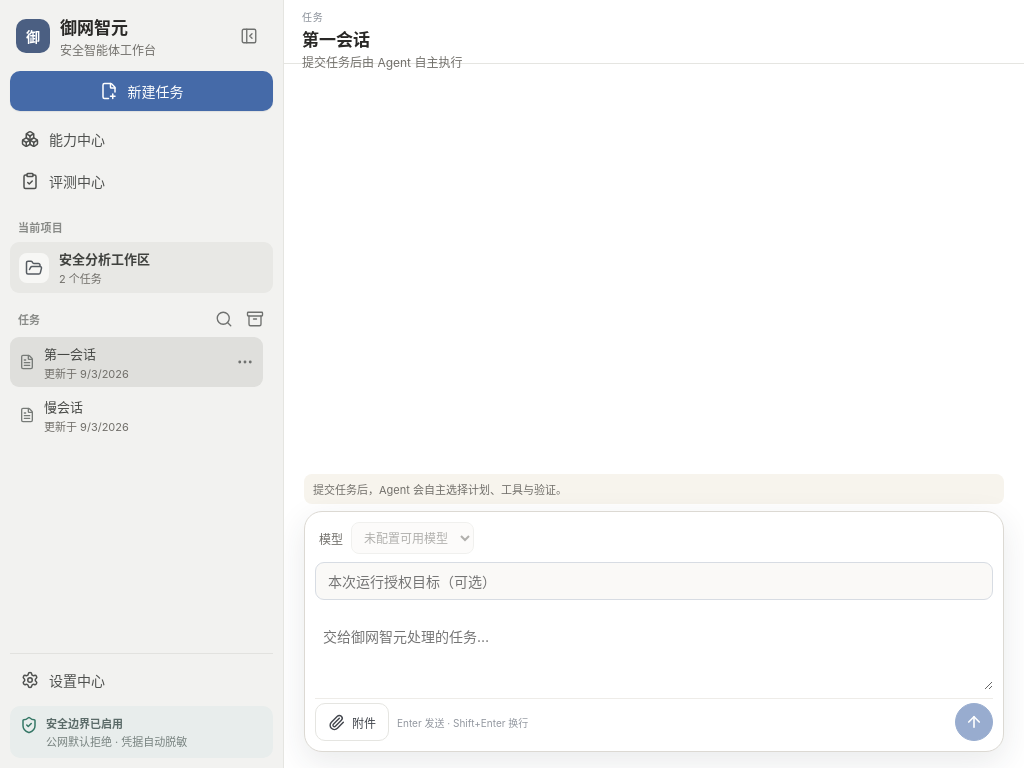
Scenario: App › 快速连续切换时不会让较慢的旧会话详情覆盖最新选择
The image size is (1024, 768).
Expected: the text box named "消息" is shown, top-left (315, 616), bottom-right (993, 690)
Click the text "慢会话": (64, 406) top-left (44, 398), bottom-right (83, 414)
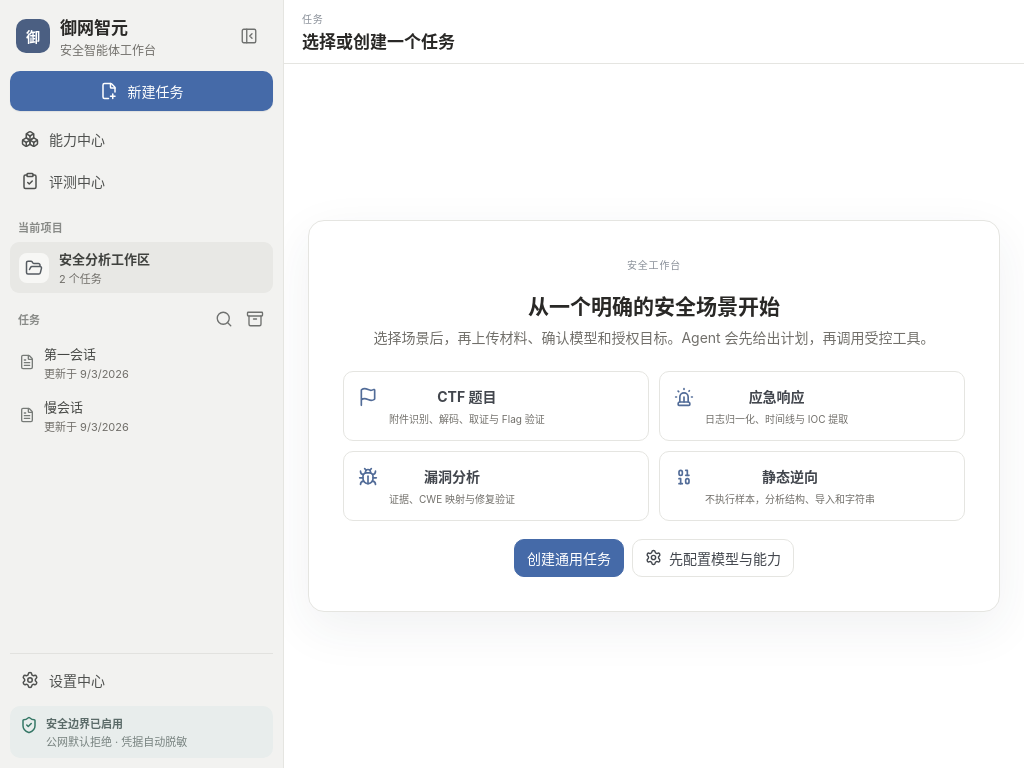
Click the text "第一会话": (70, 354) top-left (44, 346), bottom-right (96, 362)
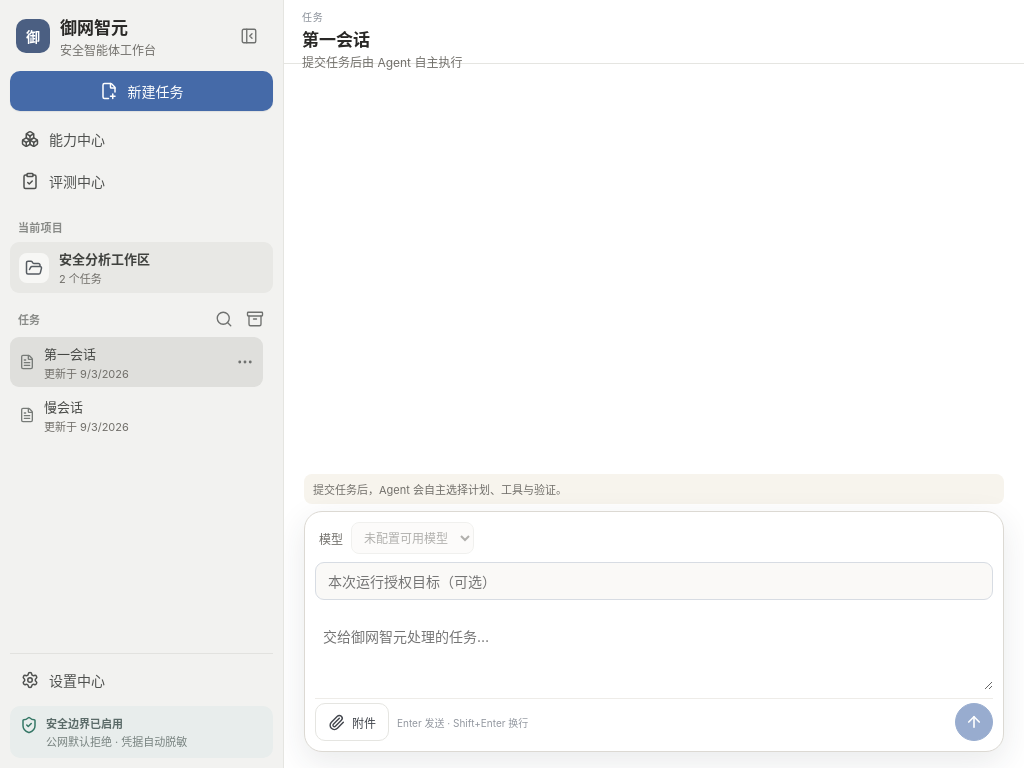
Result: the element with test id "thread-heading" shows "第一会话" at top-left (302, 30), bottom-right (370, 50)
